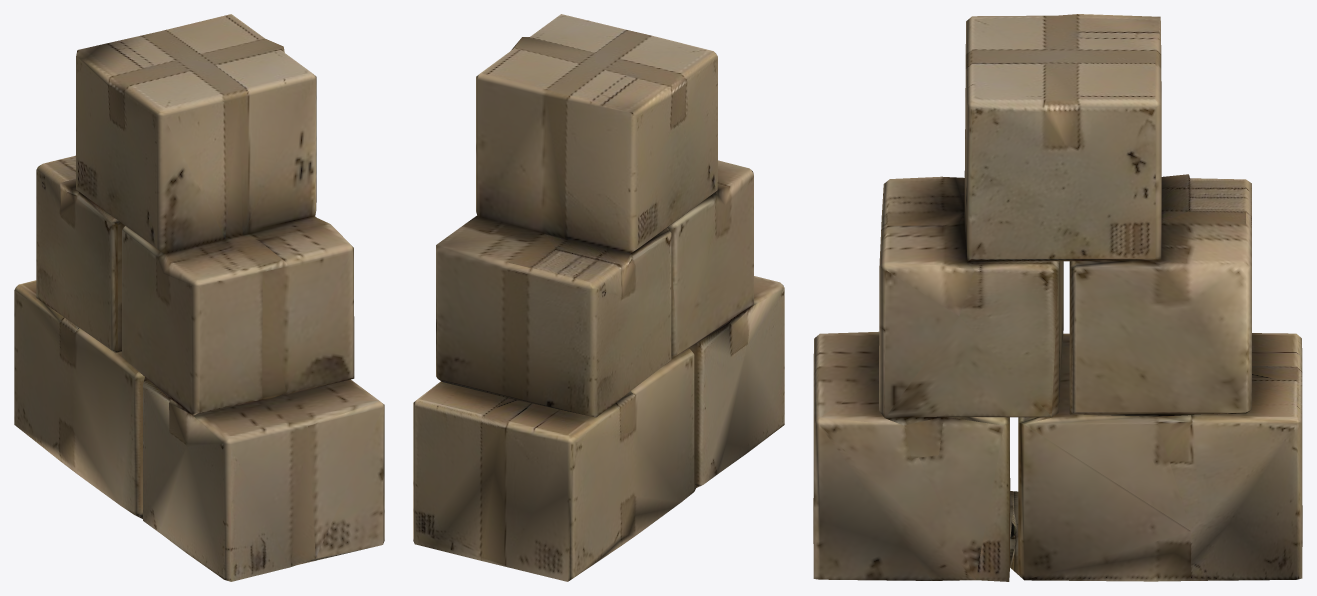
The model's file is tripo_convert_3894f8a5-d94a-4aac-9d4b-a2f746a78dcb.fbx.
3 views of the same model, side by side, from view 1: azimuth 30°, elevation 25°; view 2: azimuth 150°, elevation 25°; view 3: azimuth 270°, elevation 25° (orthographic). The views are drawn at different scales.
Visible parts, largest first — view 1: tripo_node_3894f8a5; view 2: tripo_node_3894f8a5; view 3: tripo_node_3894f8a5.
Boxes of the visible parts, left/top/right/bottom form: tripo_node_3894f8a5: left=14, top=14, right=384, bottom=581; tripo_node_3894f8a5: left=413, top=14, right=784, bottom=581; tripo_node_3894f8a5: left=813, top=14, right=1302, bottom=581.
Bounding box in the file's own units: 0.4057 × 0.9992 × 0.9203.
Materials: 1 (1 with a texture image).
